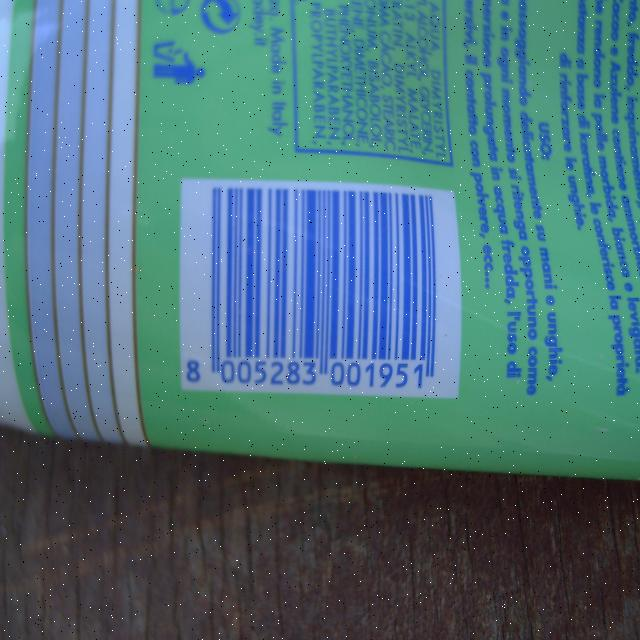barcode: (183, 187, 441, 390)
